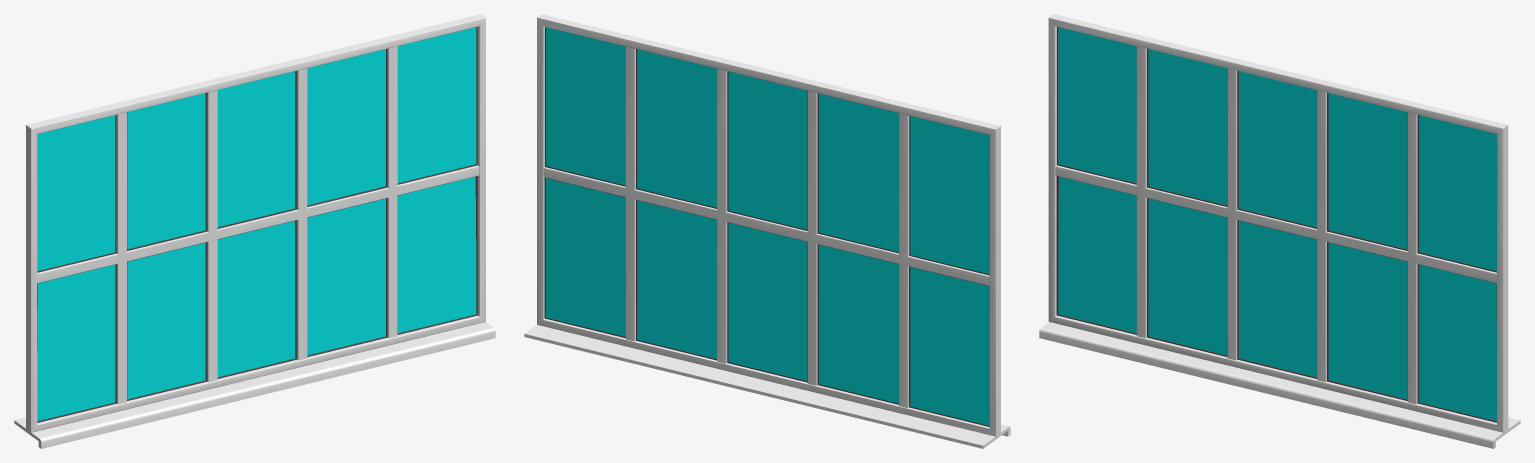
File: sm_wall_window_frame_01.fbx
The picture shows the model from 3 angles, left to right: view 1: azimuth 30°, elevation 25°; view 2: azimuth 150°, elevation 25°; view 3: azimuth 330°, elevation 25°; orthographic projection.
Parts seen in each view (by area): view 1: sm_wall_window_glass_01, sm_wall_window_frame_01, sm_wall_window_windowsill_01, sm_wall_window_frame_small_01; view 2: sm_wall_window_glass_01, sm_wall_window_frame_01, sm_wall_window_windowsill_01, sm_wall_window_frame_small_01; view 3: sm_wall_window_glass_01, sm_wall_window_frame_01, sm_wall_window_windowsill_01, sm_wall_window_frame_small_01.
Part boxes in pixels (x1,y1,x2,y2): sm_wall_window_glass_01: (37, 27, 476, 421); sm_wall_window_frame_01: (26, 14, 485, 432); sm_wall_window_windowsill_01: (14, 322, 495, 448); sm_wall_window_frame_small_01: (37, 27, 477, 422); sm_wall_window_glass_01: (546, 27, 989, 425); sm_wall_window_frame_01: (537, 14, 1000, 436); sm_wall_window_windowsill_01: (524, 325, 1010, 448); sm_wall_window_frame_small_01: (544, 27, 989, 426); sm_wall_window_glass_01: (1058, 27, 1496, 420); sm_wall_window_frame_01: (1048, 14, 1508, 432); sm_wall_window_windowsill_01: (1039, 322, 1520, 448); sm_wall_window_frame_small_01: (1056, 27, 1496, 422).
Size of the model in its own units: 351 by 231 by 36.11.
